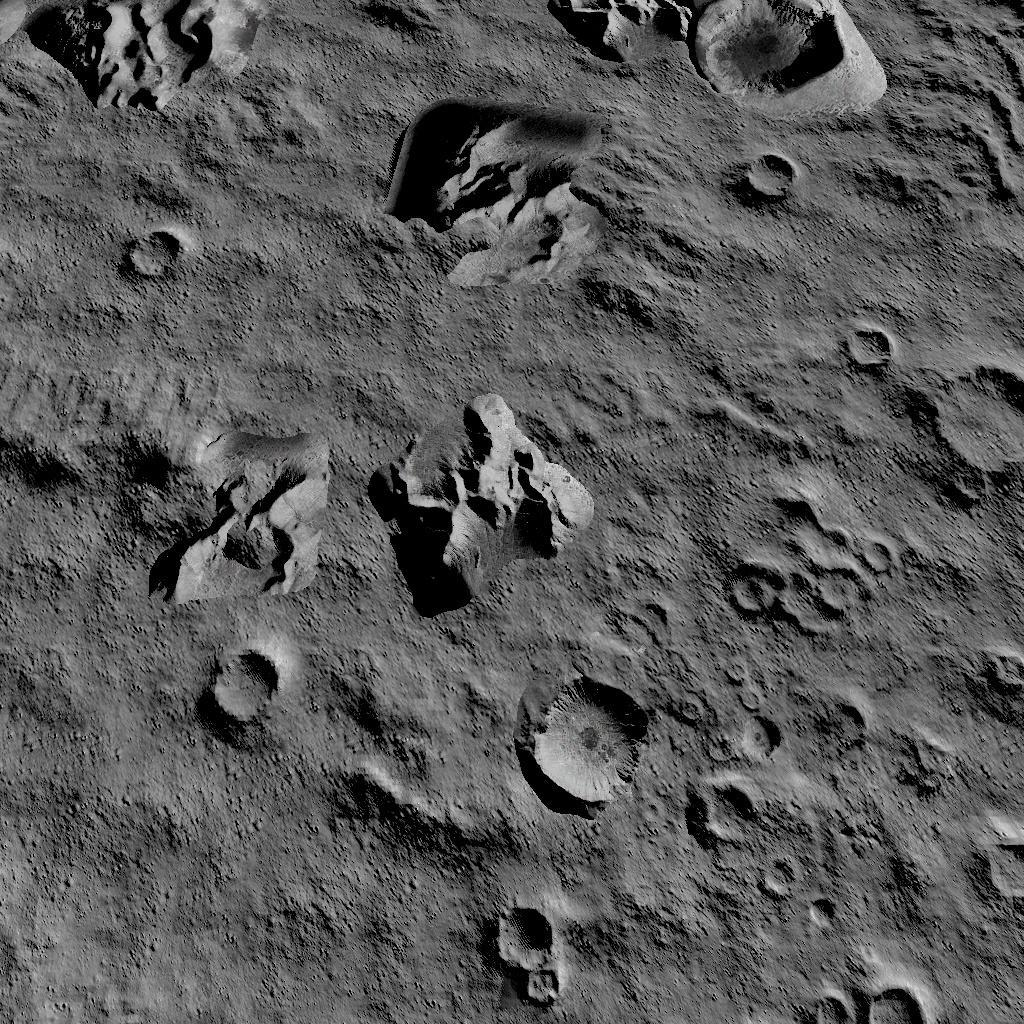Boulders: (0, 345, 328, 595), (376, 95, 698, 325), (374, 380, 590, 610), (0, 0, 258, 98)
Crater: (726, 485, 895, 628), (528, 675, 648, 810), (931, 350, 1024, 505), (486, 888, 570, 1008), (203, 648, 283, 728), (801, 978, 933, 1024), (694, 785, 762, 850), (738, 138, 798, 192), (126, 228, 180, 286), (846, 312, 898, 368)
Plan surface: (0, 608, 191, 1024), (208, 835, 476, 1024), (193, 158, 363, 332), (716, 208, 1024, 300), (711, 2, 903, 108), (584, 948, 790, 1024)
